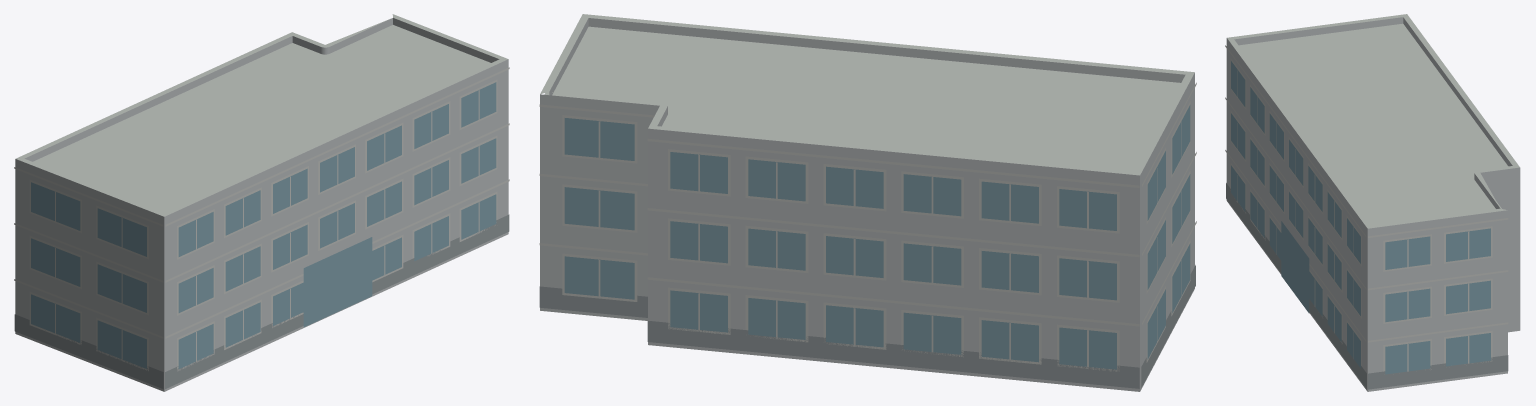
File: public-7291c1da-0557-4bb9-b4af-ca5193ceacc8.glb
The picture shows the model from 3 angles, left to right: view 1: azimuth 30°, elevation 25°; view 2: azimuth 150°, elevation 25°; view 3: azimuth 270°, elevation 25°; orthographic projection. The views are drawn at different scales.
Visible parts, largest first — view 1: public-7291c1da-0557-4bb9-b4af-ca5193ceacc8; view 2: public-7291c1da-0557-4bb9-b4af-ca5193ceacc8; view 3: public-7291c1da-0557-4bb9-b4af-ca5193ceacc8.
Part boxes in pixels (x1,y1,x2,y2): public-7291c1da-0557-4bb9-b4af-ca5193ceacc8: (14, 14, 509, 391); public-7291c1da-0557-4bb9-b4af-ca5193ceacc8: (539, 14, 1196, 391); public-7291c1da-0557-4bb9-b4af-ca5193ceacc8: (1225, 14, 1520, 391).
Bounding box in the file's own units: 25.95 × 9.15 × 15.04.
